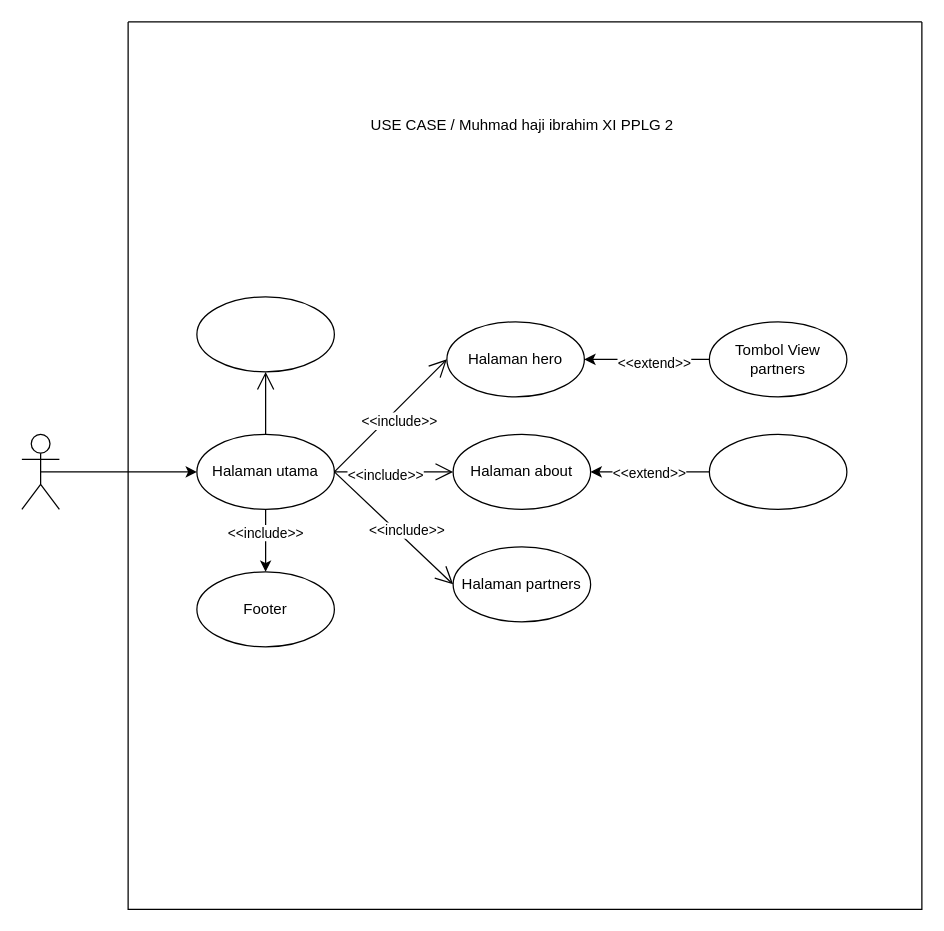
The diagram is 944 pixels wide and 931 high, and some of its shapes have lost their labels. Here are the shapes that lost their labels. From the top down, the centre of each, then its label:
At pixel 265 334: "Header".
At pixel 40 471: "Actor".
At pixel 777 471: "Back to top".
